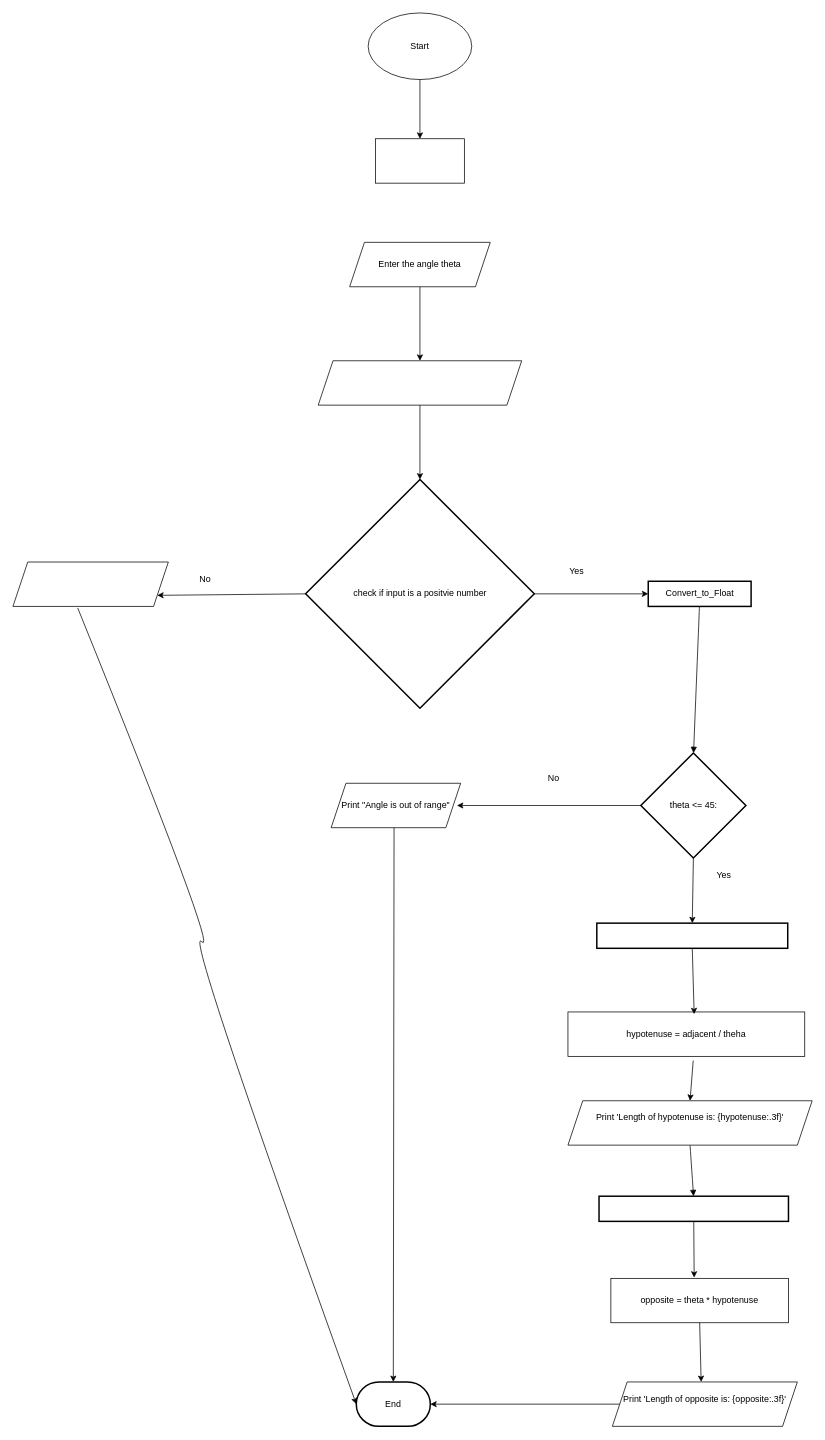
The diagram is 825 pixels wide and 1440 high, and some of its shapes have lost their labels. The shapes that lost their labels are listed below. From the top down, each one's centre as x and y in pixels, then its label:
At point 419,160: "Run main".
At point 419,382: "Enter the length of the adjacent side".
At point 90,583: "Print 'Only positive integers'".
At point 692,935: "find_hypotenuse(theta, adjacent)".
At point 693,1208: "find_opposite(theta, hypotenuse)".
